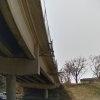Bridge: (7, 3, 69, 91)
